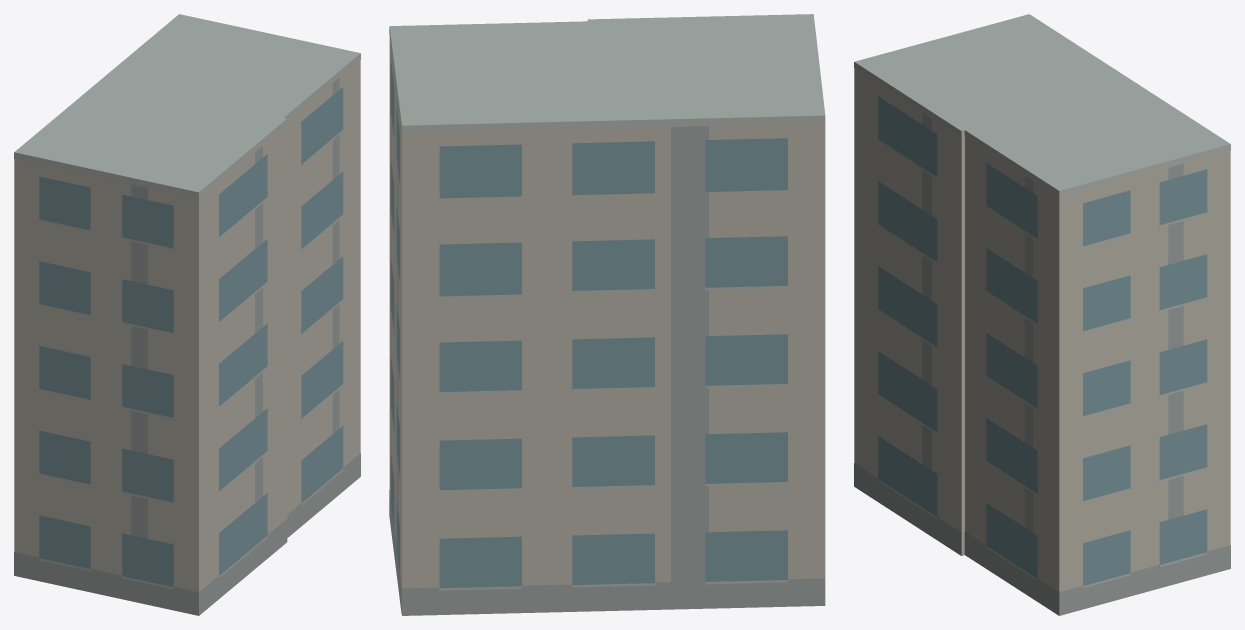
The model's file is survey-upis-32507262.glb.
3 views of the same model, side by side, from view 1: azimuth 30°, elevation 25°; view 2: azimuth 150°, elevation 25°; view 3: azimuth 270°, elevation 25° (orthographic). The views are drawn at different scales.
Parts seen in each view (by area): view 1: survey-upis-32507262.tmp; view 2: survey-upis-32507262.tmp; view 3: survey-upis-32507262.tmp.
Part boxes in pixels (box(x1,y1,x2,y2)): survey-upis-32507262.tmp: box(14, 14, 360, 615); survey-upis-32507262.tmp: box(389, 14, 825, 615); survey-upis-32507262.tmp: box(854, 14, 1230, 615).
Bounding box in the file's own units: 13.77 × 15.4 × 12.38.
